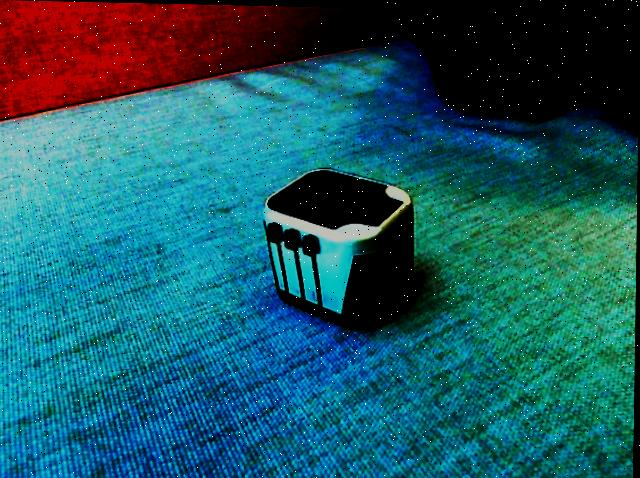adapter: (261, 166, 416, 328)
